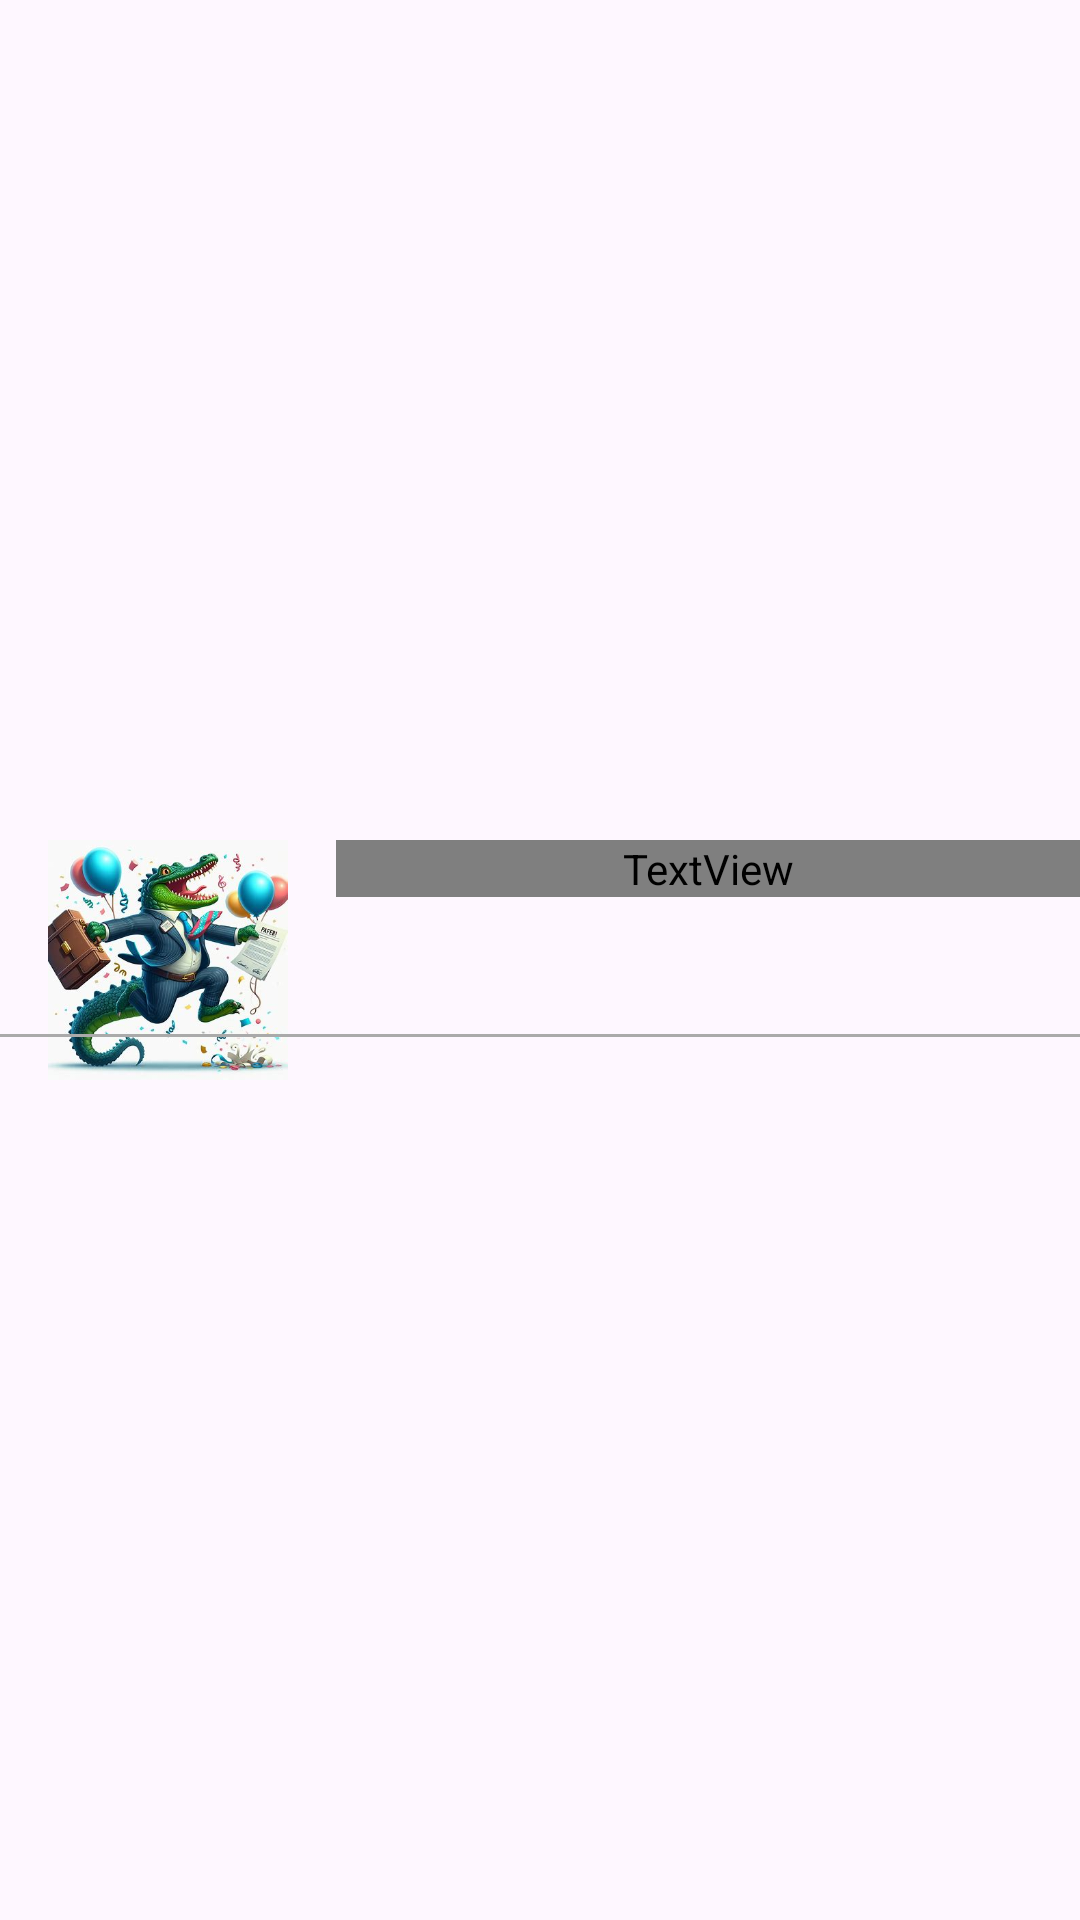

Named icons in this screenshot (1080w x 1920h) and their bounding boxes, (x1, y1, x2, y2):
gator job accept: (48, 847, 288, 1073)
